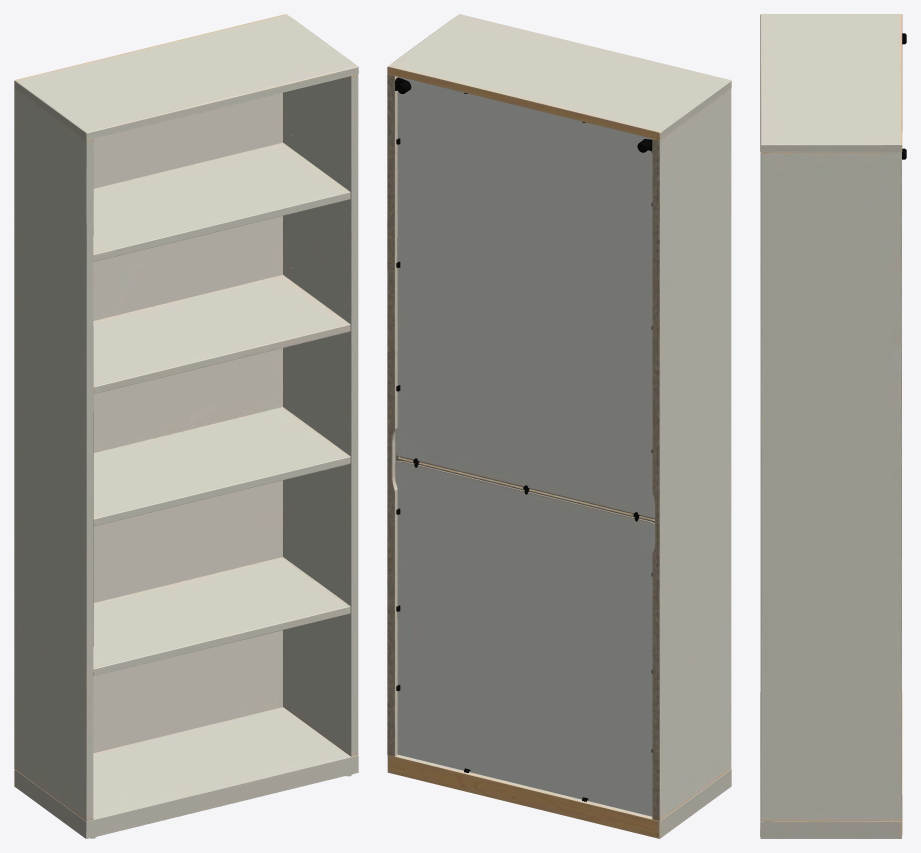
File: 35 - TONSTAD - 書櫃, 淺乳白色, 81x37x201 公分 IKEA 線上購物.glb
The picture shows the model from 3 angles, left to right: view 1: azimuth 30°, elevation 25°; view 2: azimuth 150°, elevation 25°; view 3: azimuth 270°, elevation 25°; orthographic projection.
Parts seen in each view (by area): view 1: 10528464-TONSTAD001.001; view 2: 10528464-TONSTAD001.001; view 3: 10528464-TONSTAD001.001.
Part boxes in pixels (x1,y1,x2,y2): 10528464-TONSTAD001.001: (14, 14, 358, 838); 10528464-TONSTAD001.001: (387, 14, 731, 838); 10528464-TONSTAD001.001: (760, 14, 906, 838).
Bounding box in the file's own units: 0.8096 × 2.01 × 0.3825.
1 material, 1 textured.
